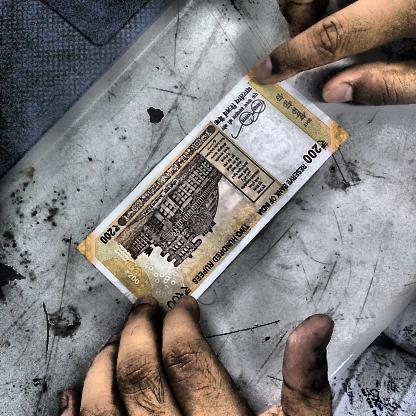Rs200: (298, 136, 331, 167), (96, 220, 125, 249)
